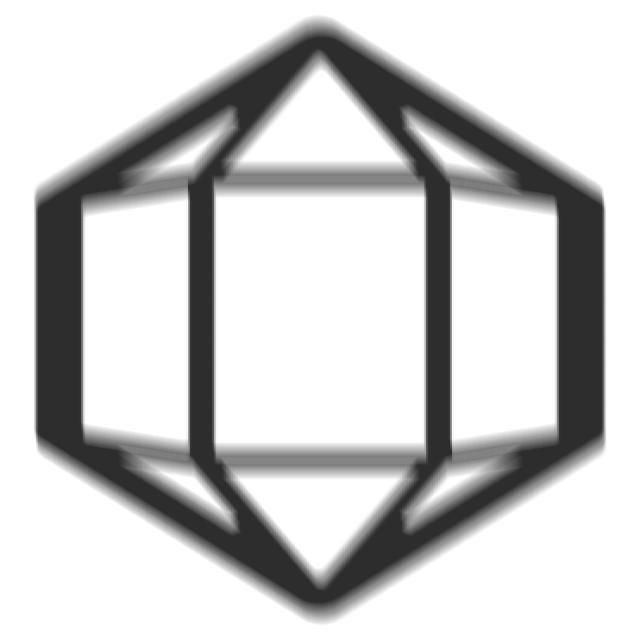crystal: (20, 9, 624, 633)
